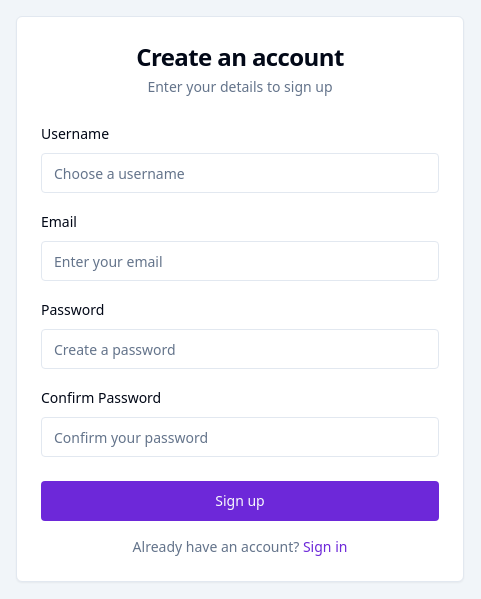
Test: Signup › shows loading state when submitting
Type "newuser" into the field labelled "Username" at (240, 173), box [41,153,439,193]
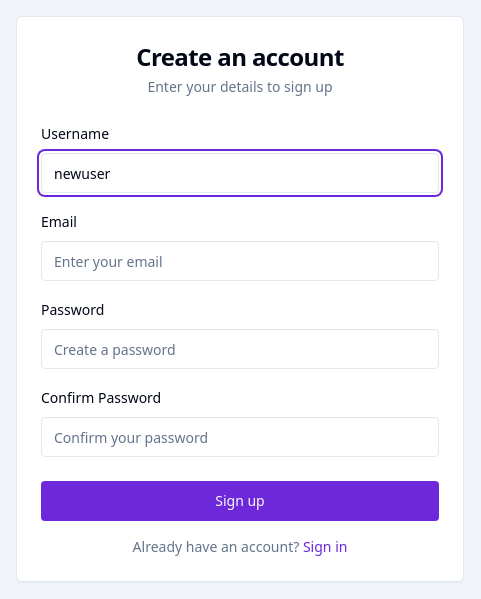
Type "newuser@example.com" into the field labelled "Email" at (240, 261), box [41,241,439,281]
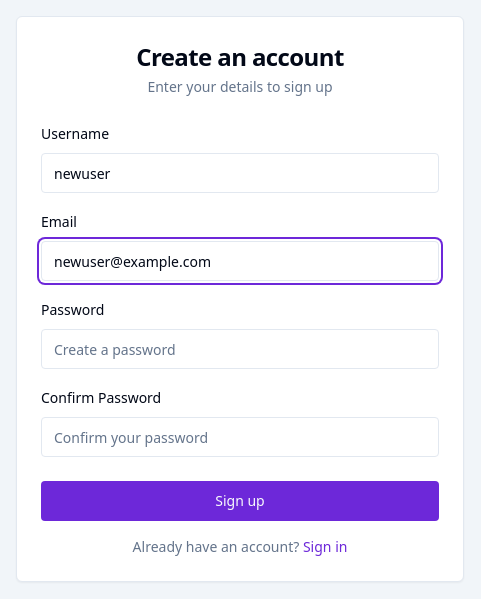
Type "password123" into the password field labelled "Password" at (240, 349), box [41,329,439,369]
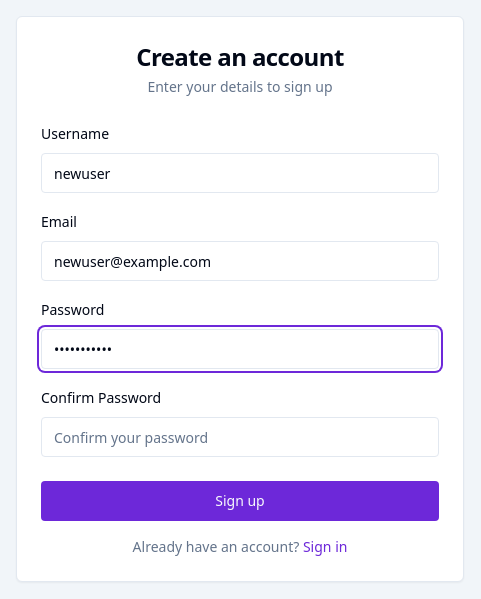
Type "password123" into the password field labelled "Confirm Password" at (240, 437), box [41,417,439,457]
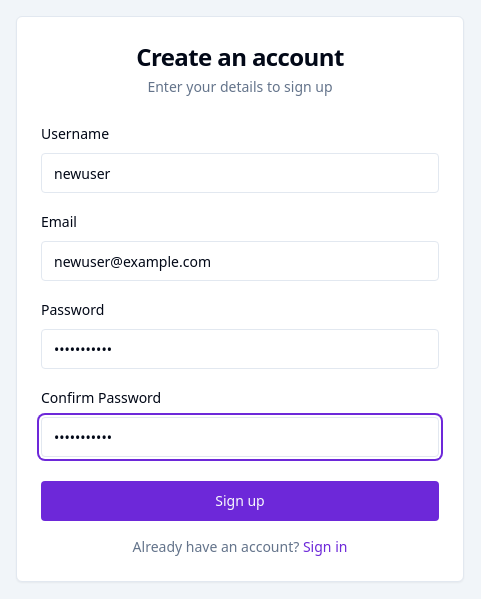
Click the button "Sign up" at (240, 501), box [41,481,439,521]
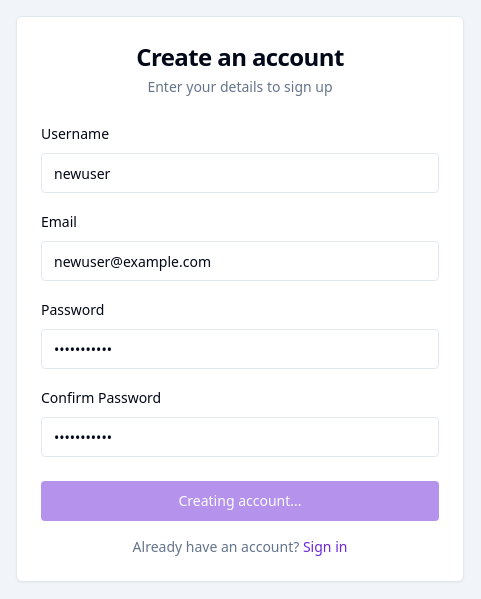
Expected: the button "Creating account..." is disabled, [41,481,439,521]
